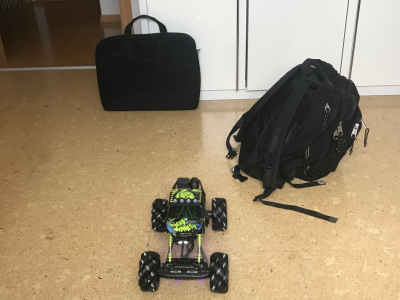remote control car: (135, 173, 231, 296)
